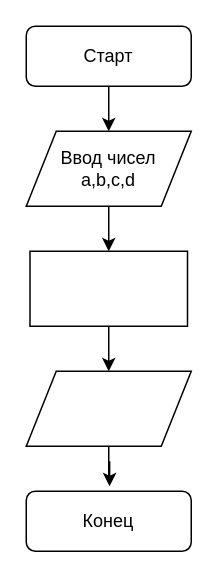
Some shapes in this 218 by 578 pixel diagram are drawn without their labels. Each missing label, with the centre of its shape:
"Print (s)" belongs at point 108,408.
"S=(a+b+c+d)/4" belongs at point 108,288.
